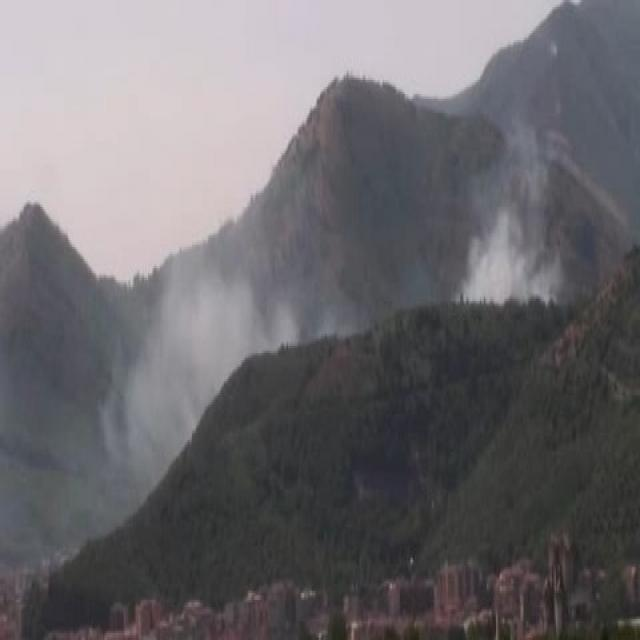smoke: (127, 248, 270, 446), (449, 147, 546, 309)
